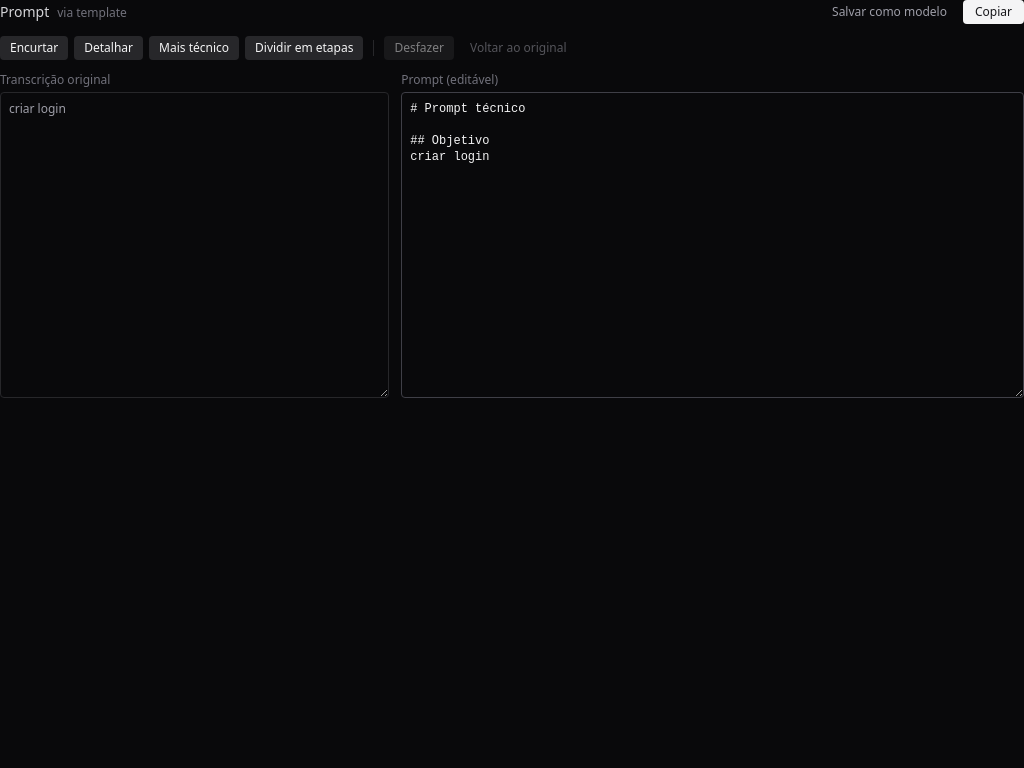
Test: PromptEditor › stores the prompt as a reusable template
The image size is (1024, 768).
Click the button "Salvar como modelo": (889, 12) x1=822 y1=0 x2=957 y2=24
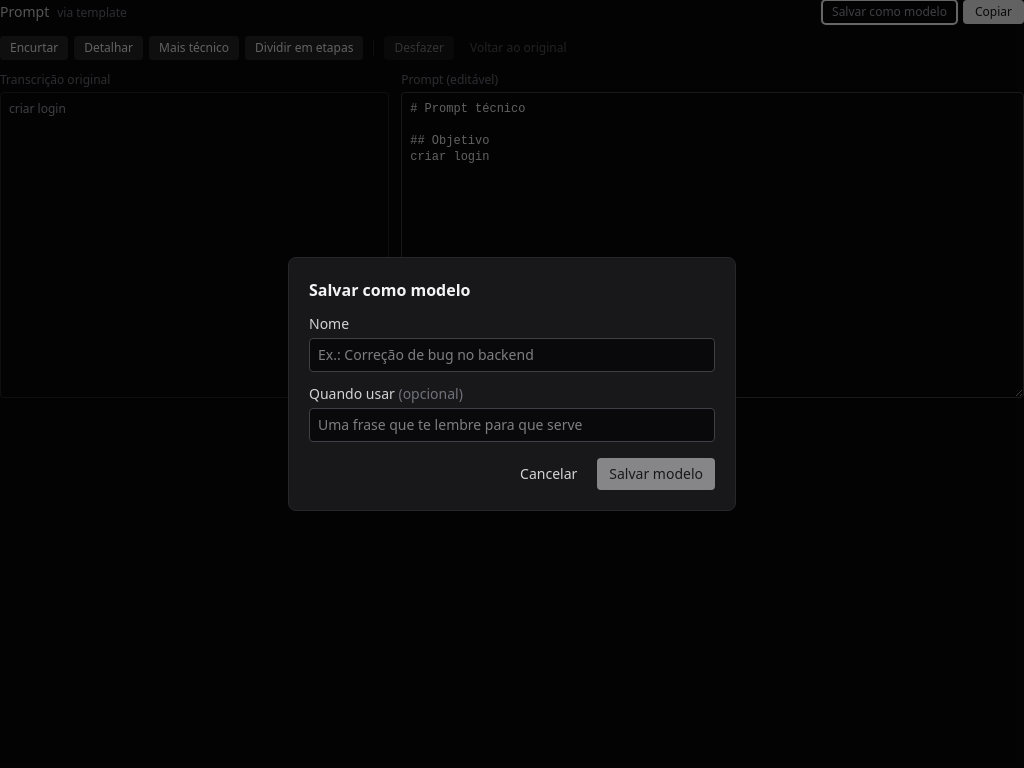
In the field labelled "Nome": (512, 355) x1=309 y1=338 x2=715 y2=372, type "Meu fluxo"
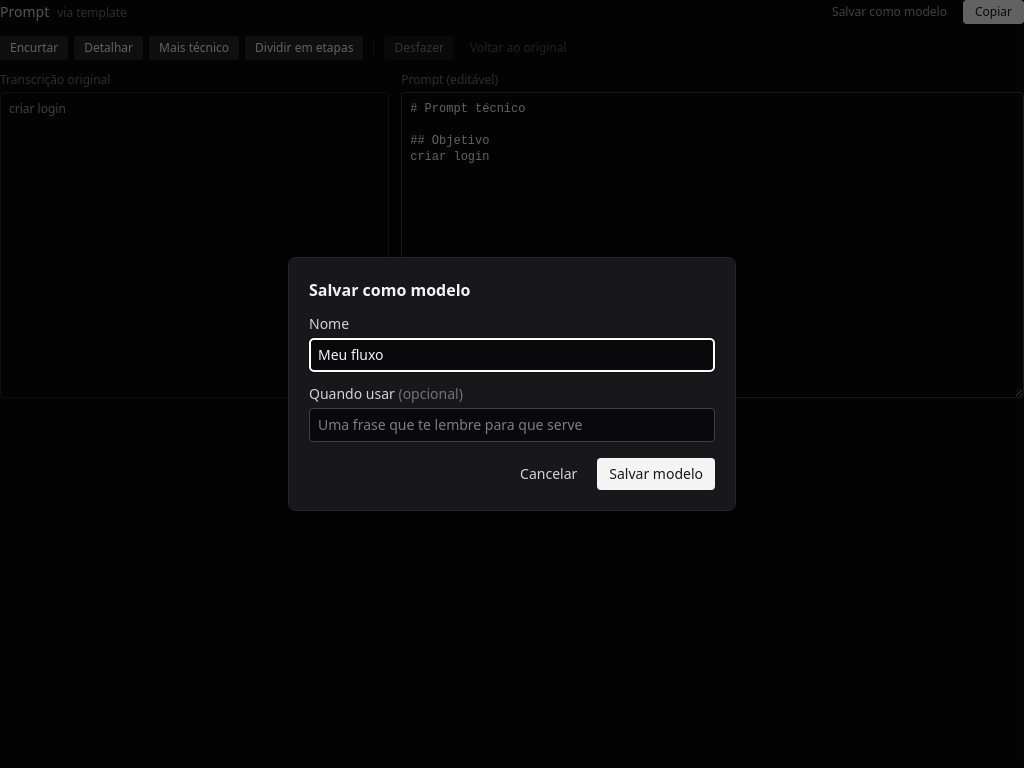
Click the button "Salvar modelo": (656, 474) x1=597 y1=458 x2=715 y2=490
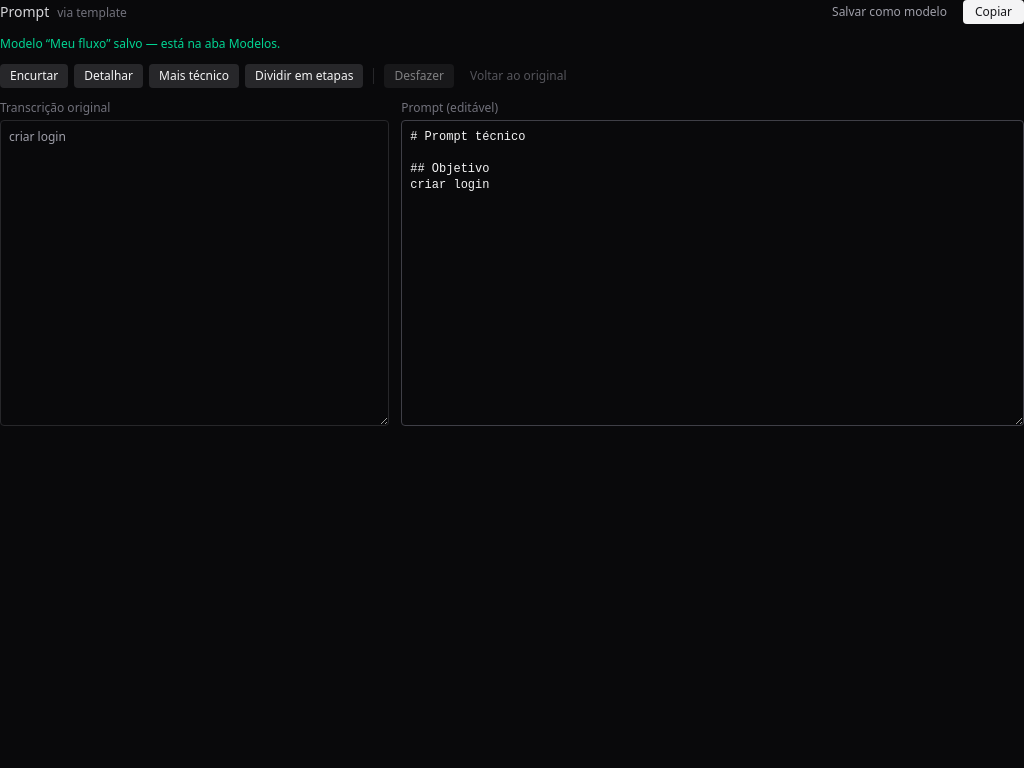
Result: the text "Modelo “Meu fluxo” salvo — está na aba Modelos." is shown at x1=0 y1=35 x2=280 y2=52
